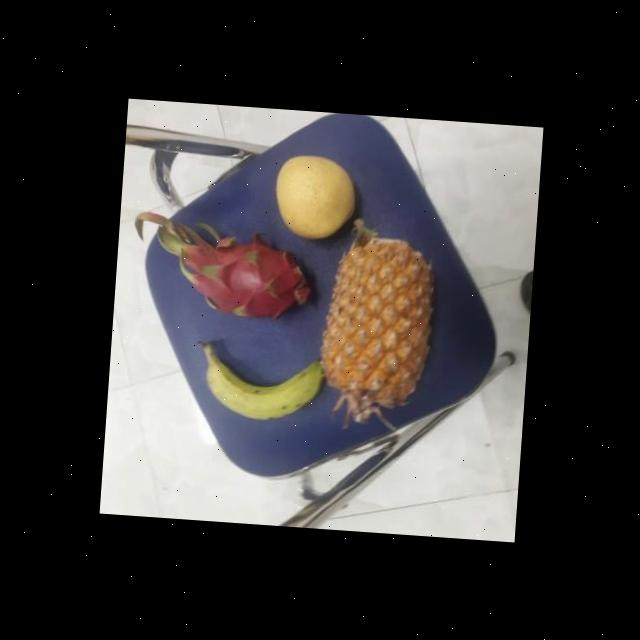banana: (197, 344, 321, 426)
pear: (271, 152, 356, 244)
pineapple: (313, 229, 440, 422)
pitaya: (188, 228, 310, 328)
